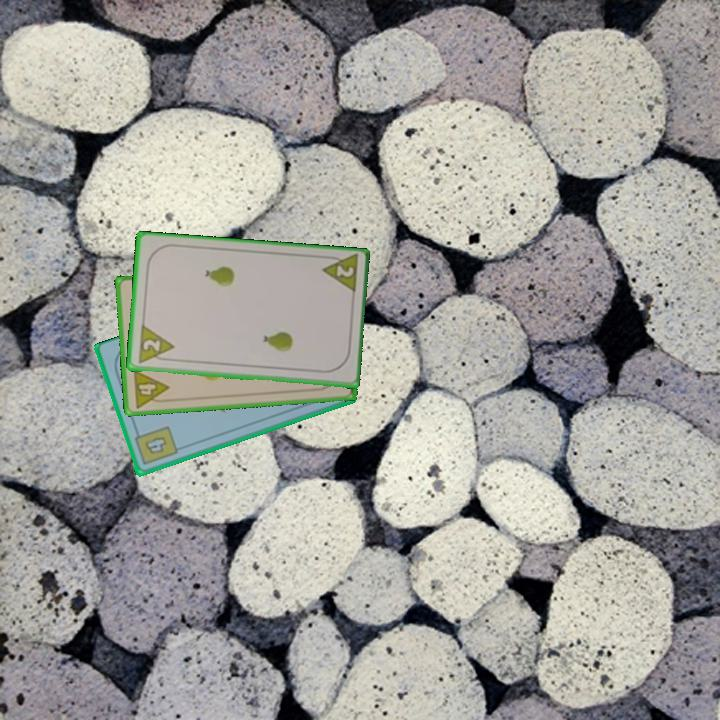2p: (134, 322, 177, 367), (318, 252, 360, 297)
4b: (131, 423, 180, 468)
4p: (130, 366, 172, 411)
